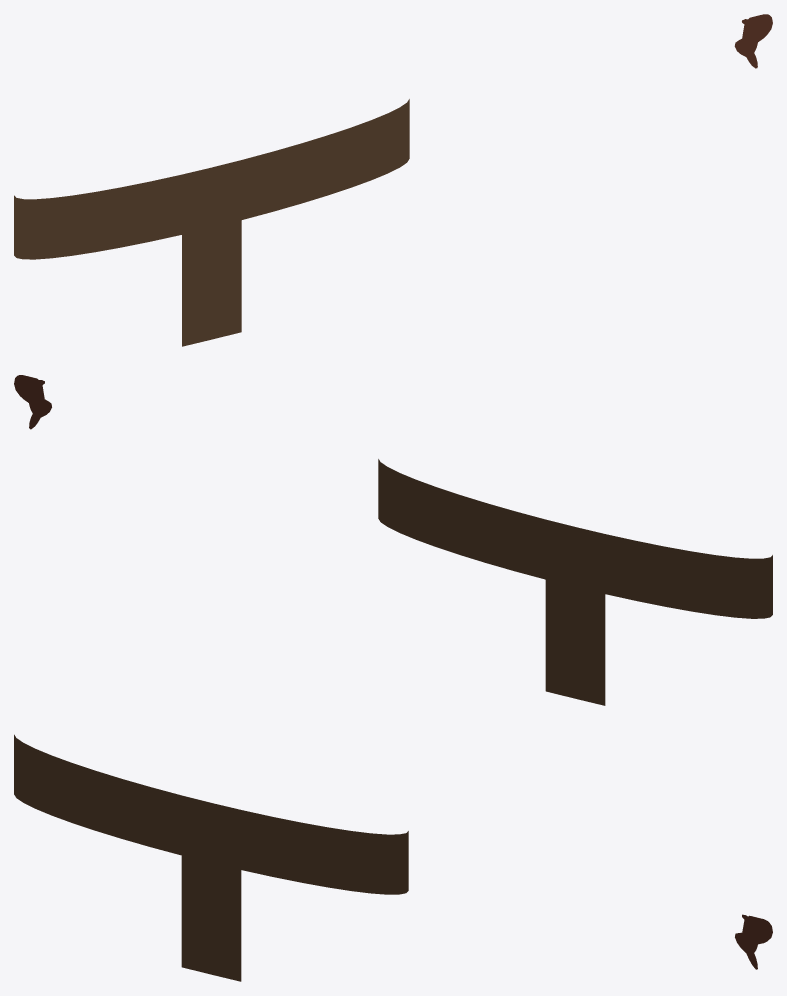
The model's file is reflections.fbx.
The picture shows the model from 3 angles, top to bottom: view 1: azimuth 30°, elevation 25°; view 2: azimuth 150°, elevation 25°; view 3: azimuth 330°, elevation 25°; orthographic projection.
Visible parts, largest first — view 1: reflections; view 2: reflections; view 3: reflections.
Boxes of the visible parts, x1,y1,x2,y2 form: reflections: (14,14,772,346); reflections: (14,375,772,705); reflections: (14,734,772,981).
Size of the model in its own units: 30.21 by 7.32 by 0.0489.
